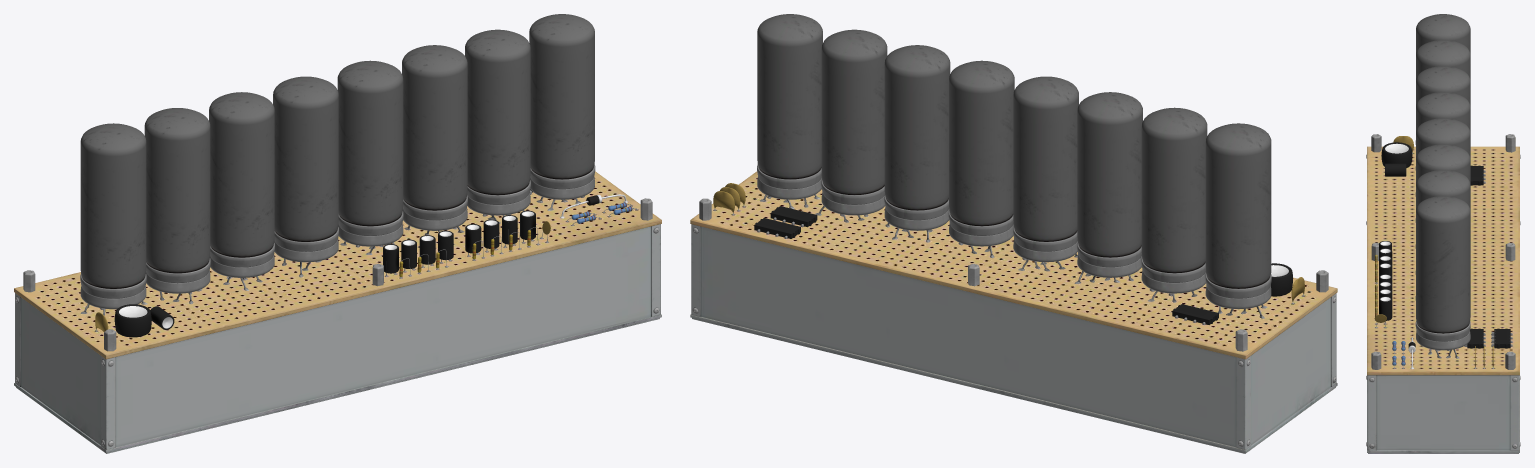
The model's file is opti_diver.glb.
3 renders of one model, left to right at view 1: azimuth 30°, elevation 25°; view 2: azimuth 150°, elevation 25°; view 3: azimuth 270°, elevation 25°, orthographic. The views are drawn at different scales.
Visible parts, largest first — view 1: glass; view 2: glass; view 3: glass.
Part boxes in pixels (x1=…): glass: x1=14, y1=14, x2=661, y2=453; glass: x1=690, y1=14, x2=1337, y2=453; glass: x1=1366, y1=14, x2=1520, y2=453.
Size of the model in its own units: 0.3548 by 0.1715 by 0.1023.
8 materials, 8 textured.
